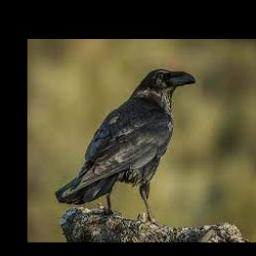Crow: (56, 69, 196, 225)
